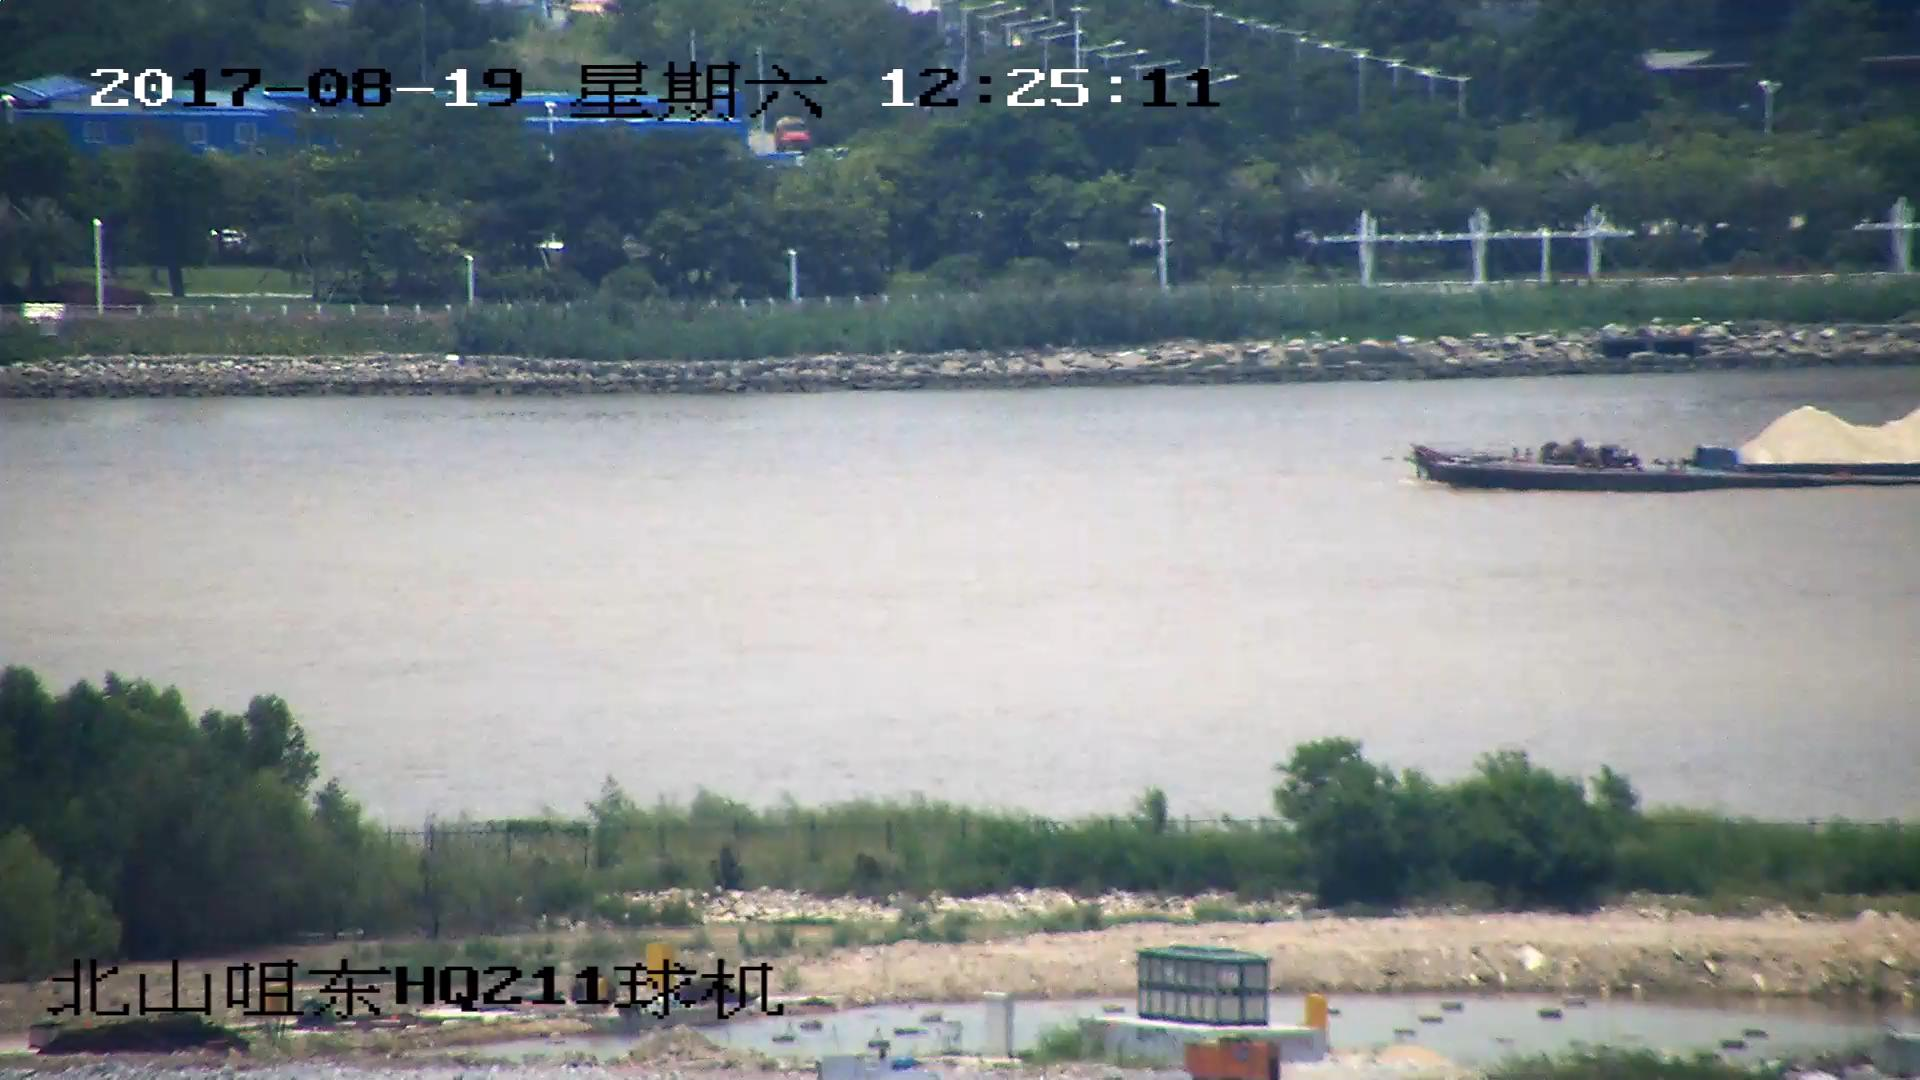ore carrier: (1399, 402, 1920, 493)
